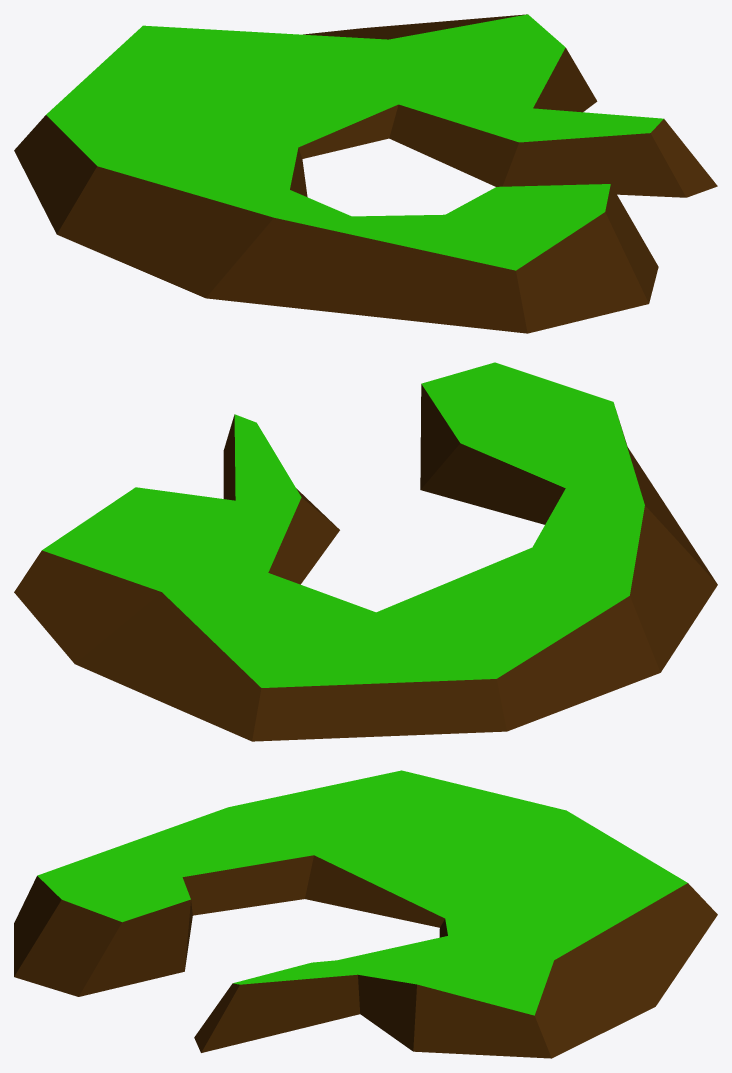
File: Island3FBX.fbx
3 renders of one model, top to bottom at view 1: azimuth 30°, elevation 25°; view 2: azimuth 150°, elevation 25°; view 3: azimuth 270°, elevation 25°, orthographic. The views are drawn at different scales.
Parts seen in each view (by area): view 1: Plane; view 2: Plane; view 3: Plane.
Part boxes in pixels (bbox=[...]): Plane: bbox=[14, 14, 717, 333]; Plane: bbox=[14, 362, 717, 741]; Plane: bbox=[14, 770, 717, 1058].
Size of the model in its own units: 10.32 by 1.36 by 12.46.
